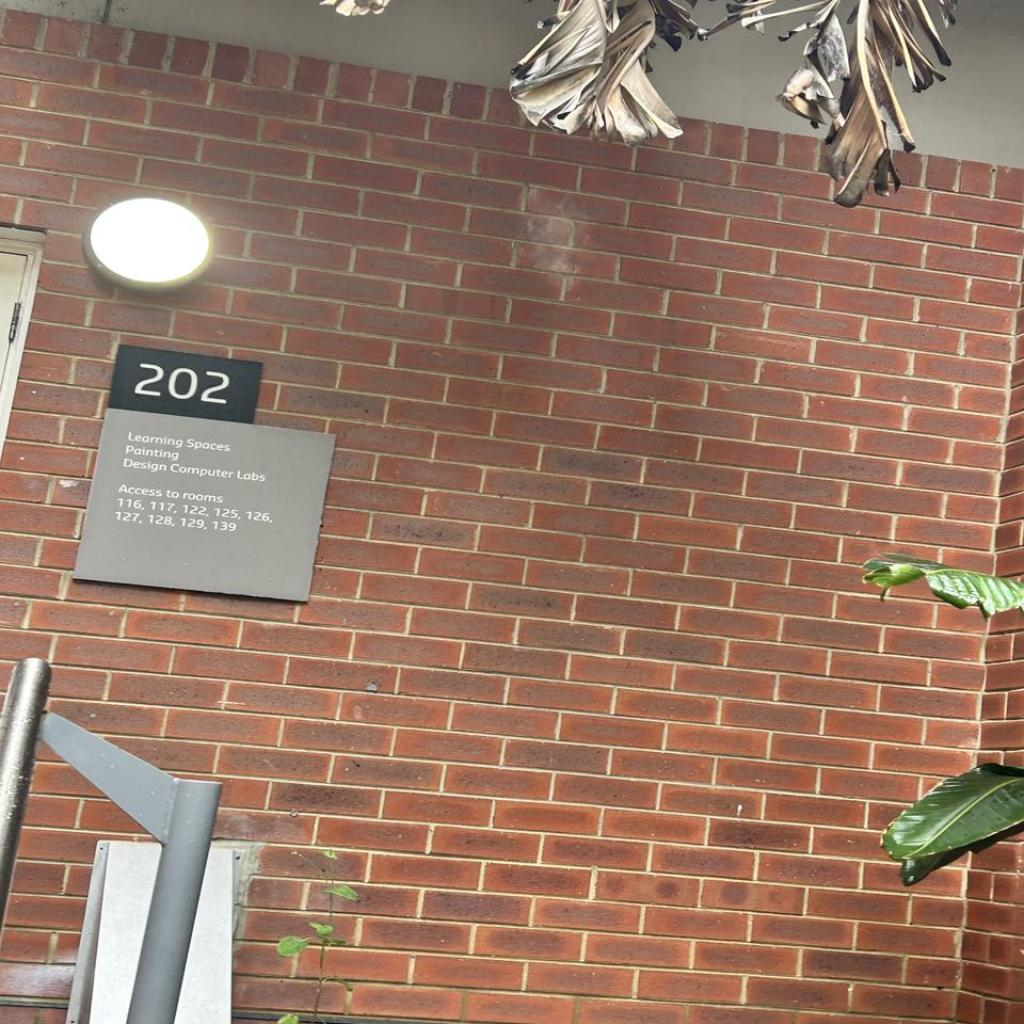BuildingCodes: (132, 358, 230, 410)
